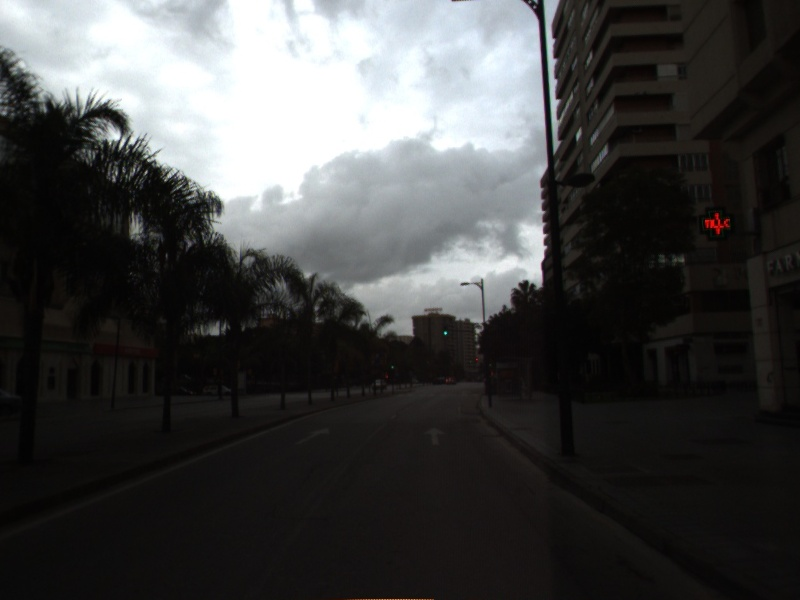STRAIGHT: (291, 425, 332, 447), (421, 425, 448, 447)
